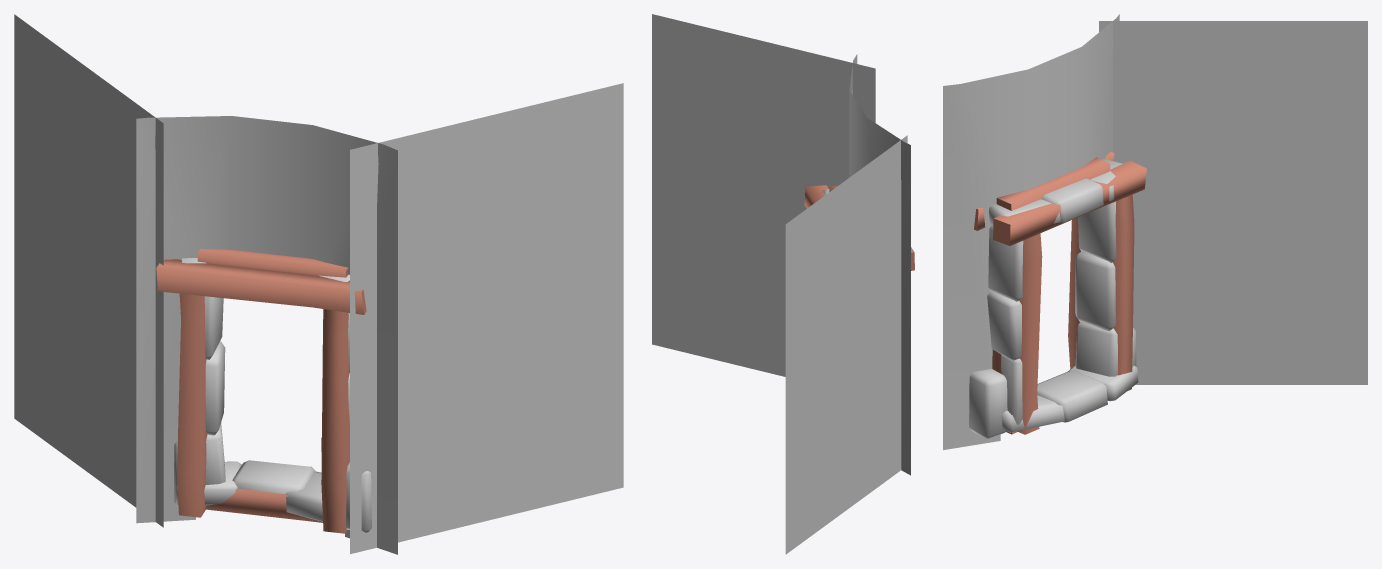
File: tower_c_segment_a_inside.fbx
3 renders of one model, left to right at view 1: azimuth 30°, elevation 25°; view 2: azimuth 150°, elevation 25°; view 3: azimuth 270°, elevation 25°, orthographic. The views are drawn at different scales.
Visible parts, largest first — view 1: Cylinder.037, Cube.145, Cylinder.038; view 2: Cylinder.037, Cube.145; view 3: Cylinder.037, Cylinder.038, Cube.145.
Boxes of the visible parts, x1=… form: Cylinder.037: x1=14, y1=14, x2=623, y2=554; Cube.145: x1=156, y1=249, x2=366, y2=533; Cylinder.038: x1=173, y1=258, x2=371, y2=532; Cylinder.037: x1=652, y1=14, x2=910, y2=554; Cube.145: x1=804, y1=185, x2=914, y2=270; Cylinder.037: x1=943, y1=14, x2=1367, y2=450; Cylinder.038: x1=969, y1=158, x2=1138, y2=439; Cube.145: x1=974, y1=152, x2=1146, y2=434.
Size of the model in its own units: 5.2 by 5 by 5.28.
